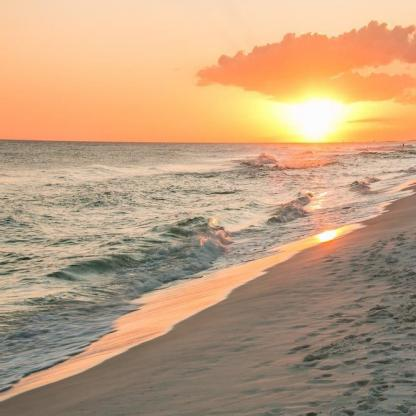other: (251, 79, 360, 143)
